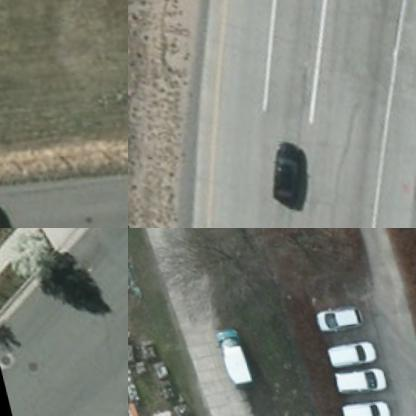car: (252, 128, 308, 209), (312, 296, 364, 330)
van: (210, 321, 250, 384), (319, 332, 379, 364), (328, 356, 382, 391), (333, 390, 390, 415)
